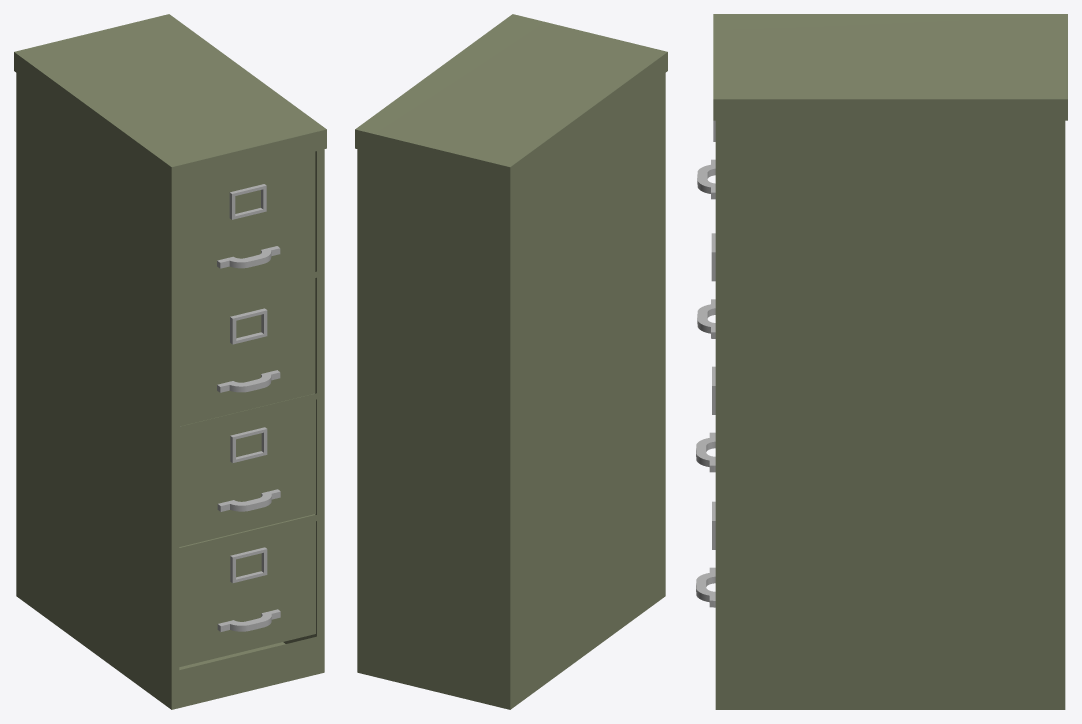
Rendered from PD_FileCabinet_07_DF.fbx.
3 views of the same model, side by side, from view 1: azimuth 30°, elevation 25°; view 2: azimuth 150°, elevation 25°; view 3: azimuth 270°, elevation 25° (orthographic). The views are drawn at different scales.
Visible parts, largest first — view 1: FIleCabinetBody, MetalHandle; view 2: FIleCabinetBody; view 3: FIleCabinetBody, MetalHandle.
Boxes of the visible parts, x1,y1,x2,y2 form: FIleCabinetBody: (14,14,326,709); MetalHandle: (217,184,280,631); FIleCabinetBody: (355,14,667,709); FIleCabinetBody: (713,14,1067,709); MetalHandle: (696,120,715,607).
Size of the model in its own units: 0.3947 by 1.32 by 0.7281.
